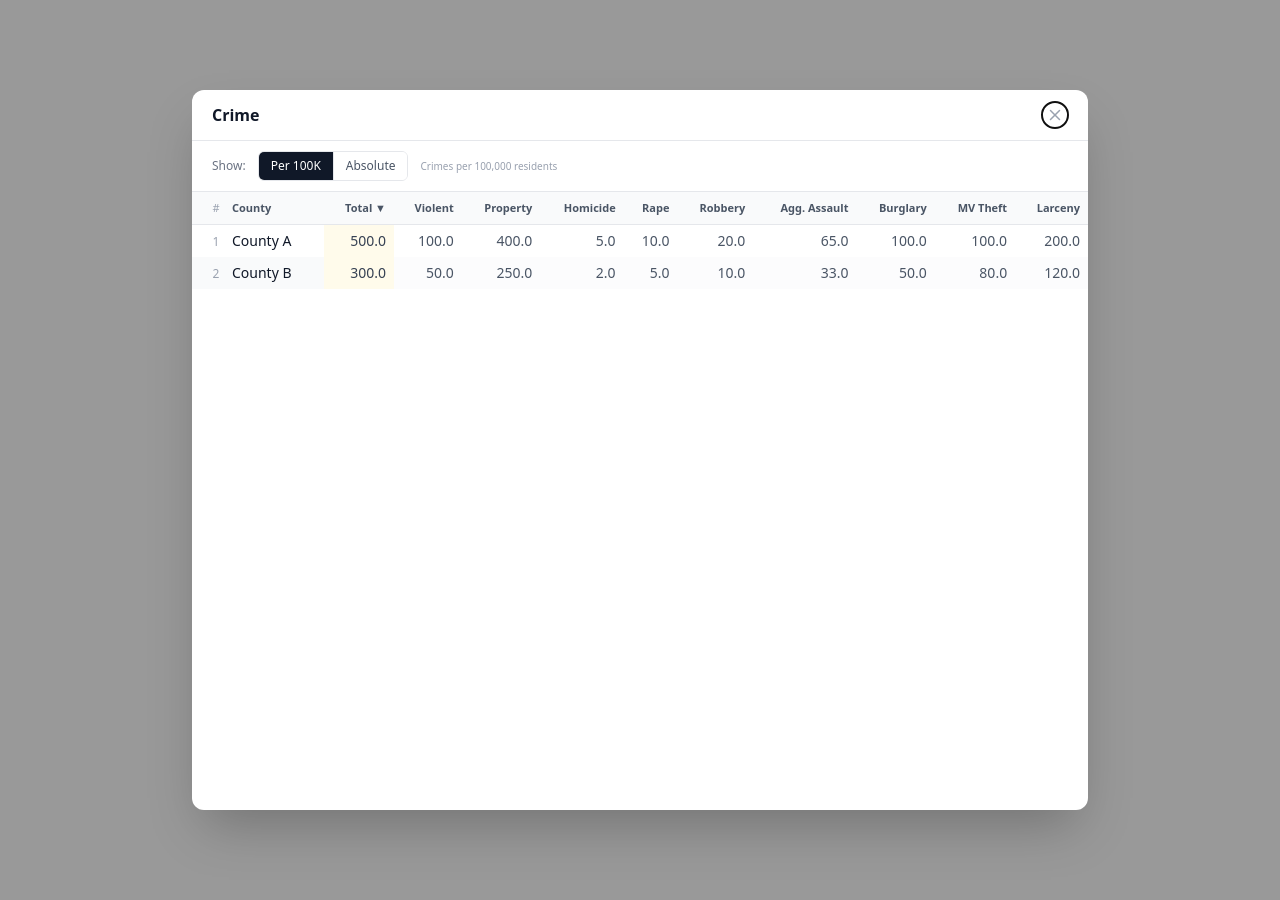
Test case: CrimeTableModal › switches data mode to absolute
Expected: the text "County A" is shown, [232, 231, 291, 250]
# Switch to absolute mode
Step 1. Click the button "Absolute" → {"x": 370, "y": 166}, box [333, 152, 408, 180]
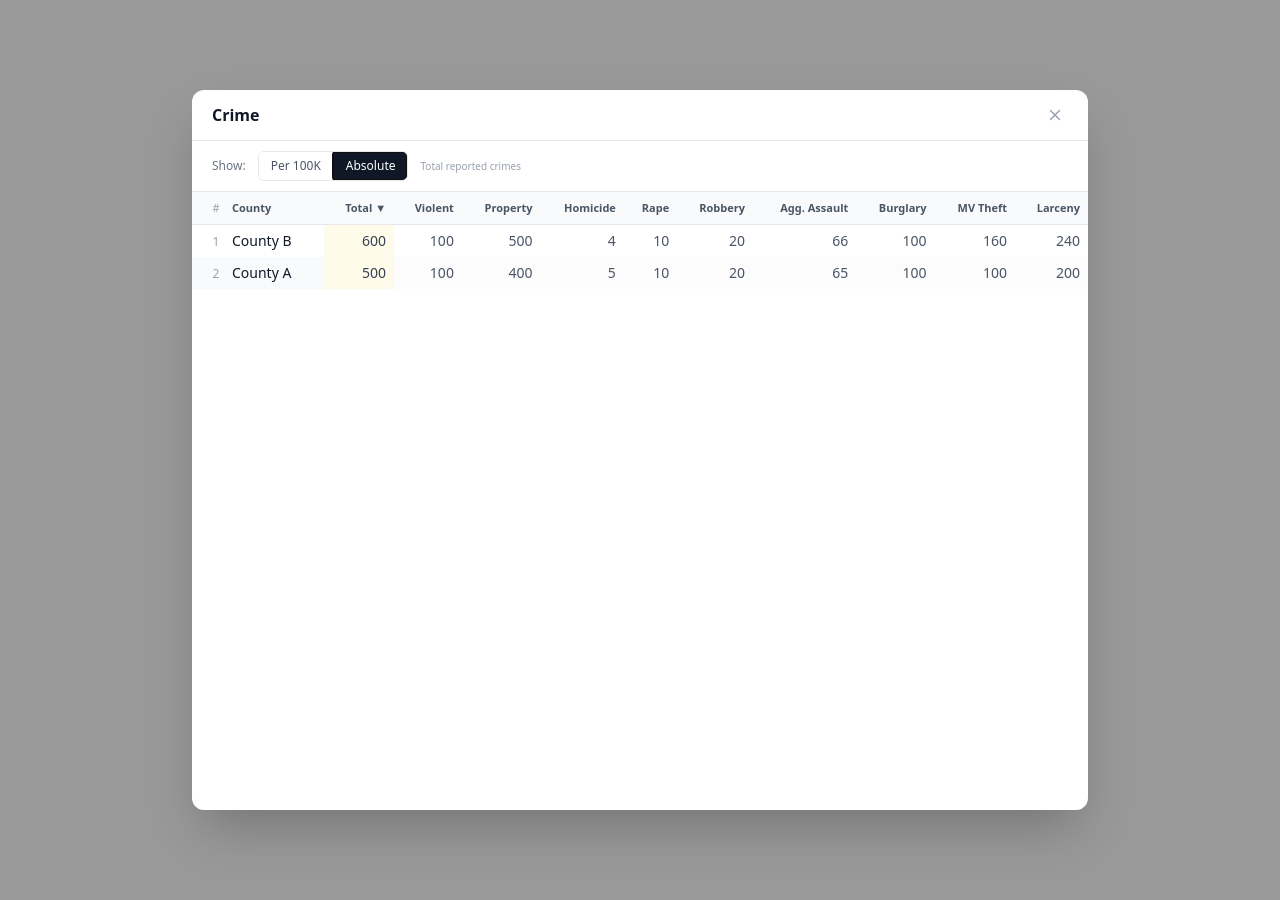
Expected: the text "Total reported crimes" is shown, [420, 158, 521, 174]
# Switch back to rate mode
Step 2. Click the button "Per 100K" → {"x": 296, "y": 166}, box [259, 152, 333, 180]
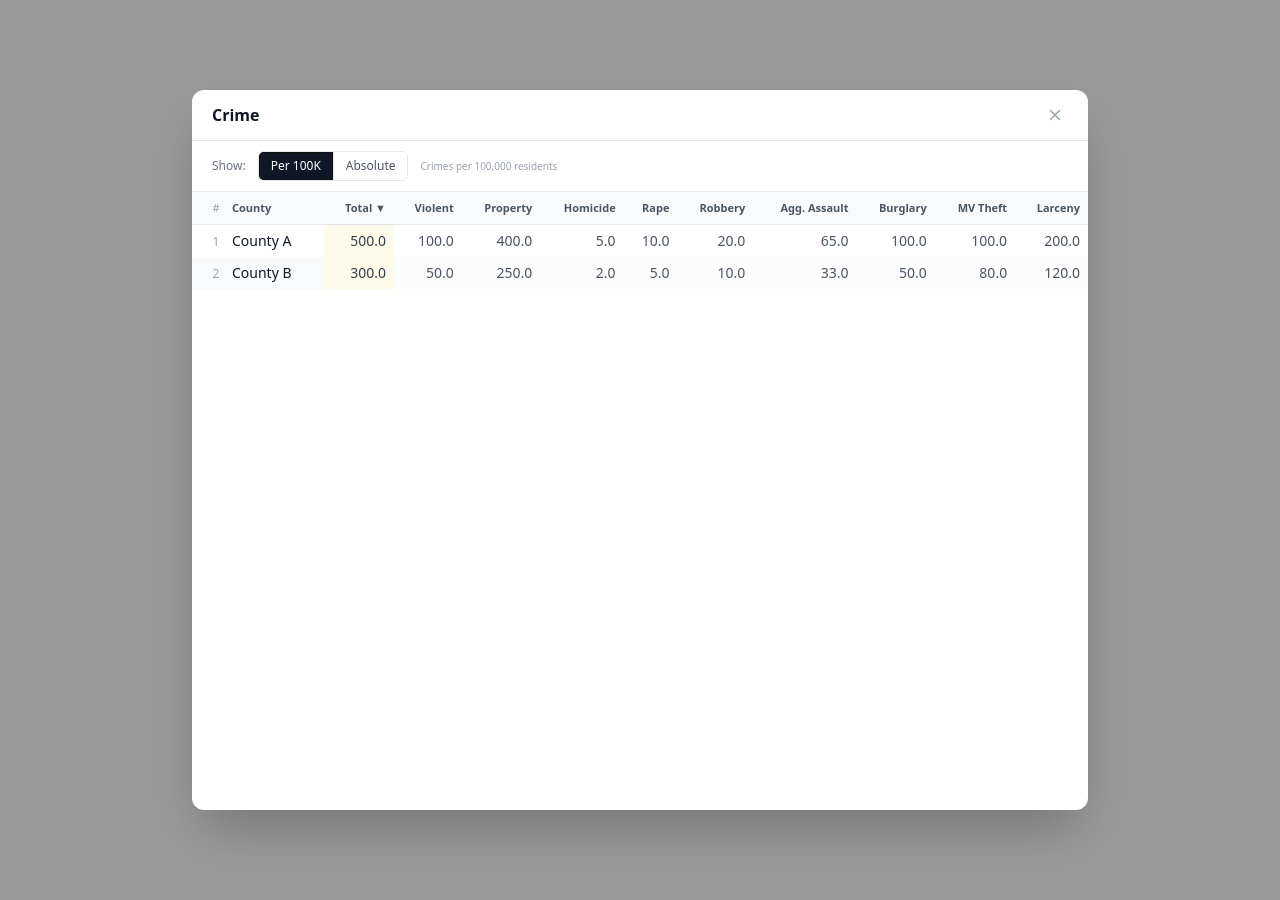
Expected: the text "Crimes per 100,000 residents" is shown, [420, 158, 557, 174]
